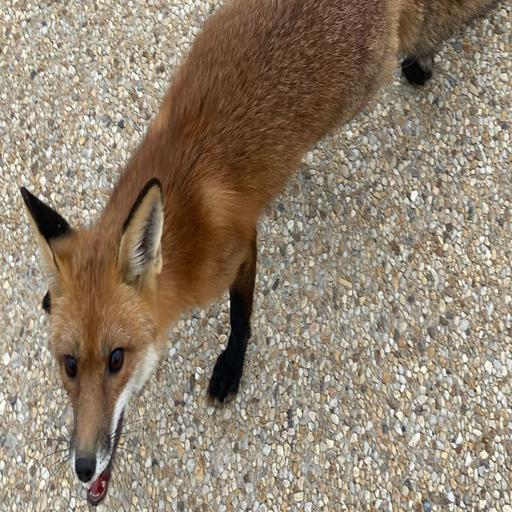Fox: (18, 0, 512, 512)
